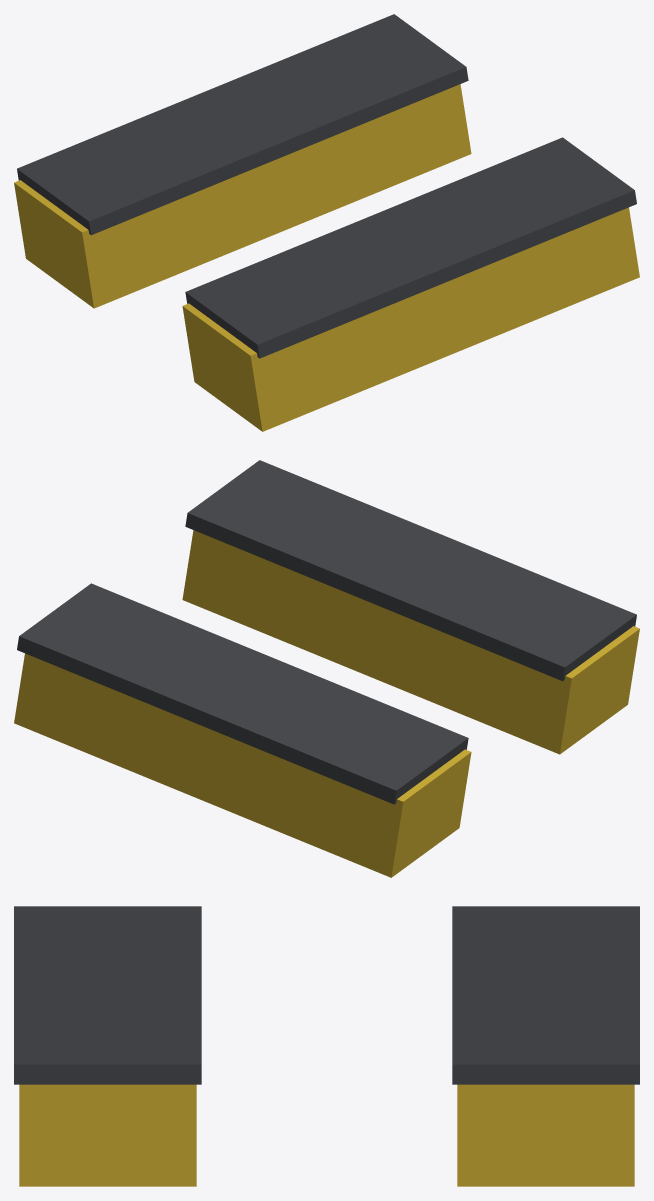
Rendered from car_ramps.glb.
3 views of the same model, one above another, from view 1: azimuth 30°, elevation 25°; view 2: azimuth 150°, elevation 25°; view 3: azimuth 270°, elevation 25° (orthographic). The views are drawn at different scales.
Visible parts, largest first — view 1: car_ramps; view 2: car_ramps; view 3: car_ramps.
Part boxes in pixels (<box>): car_ramps: <box>14,14,639,431</box>; car_ramps: <box>14,460,639,877</box>; car_ramps: <box>14,906,639,1186</box>.
Size of the model in its own units: 1.12 by 0.4205 by 1.2.
